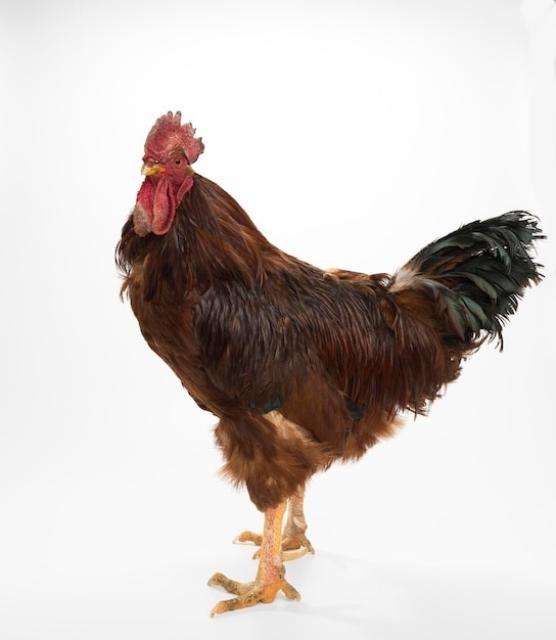Chicken: (116, 109, 544, 617)
